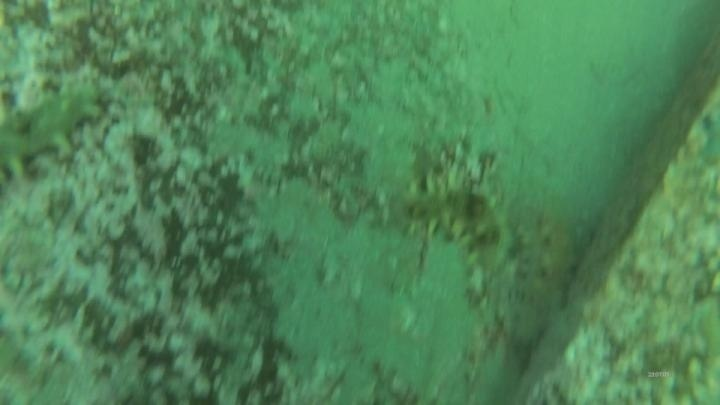holothurian: (392, 175, 517, 283), (508, 207, 586, 356), (0, 80, 108, 183)
